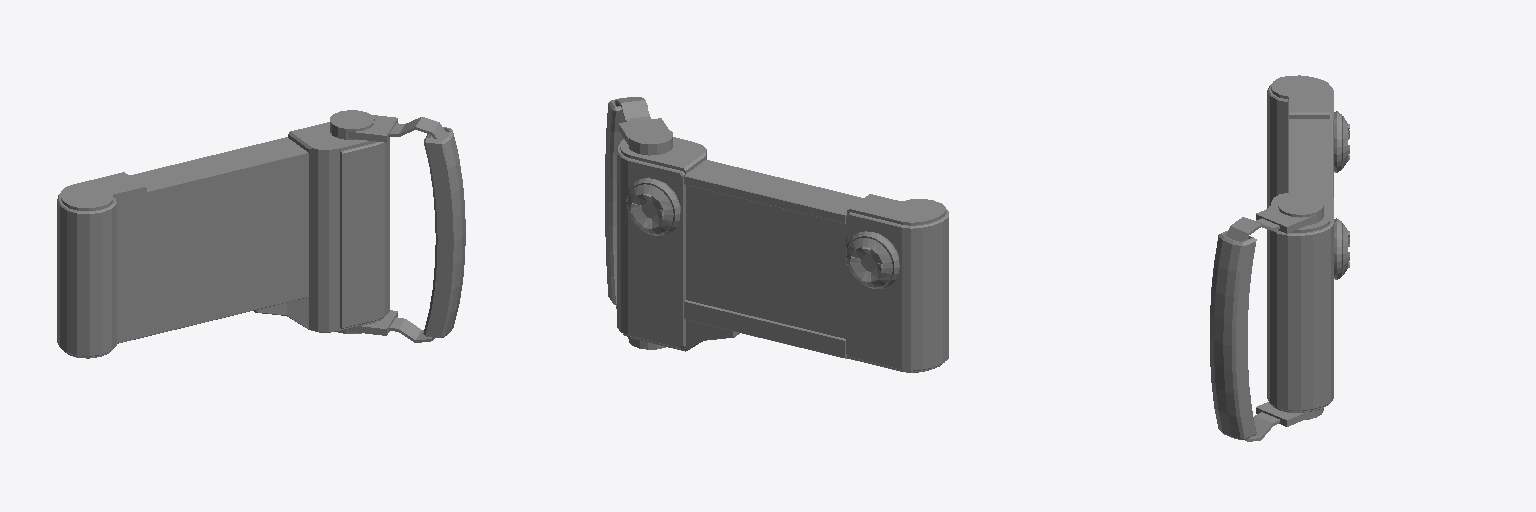
File: RCRemote.obj
3 views of the same model, side by side, from view 1: azimuth 30°, elevation 25°; view 2: azimuth 150°, elevation 25°; view 3: azimuth 270°, elevation 25° (orthographic).
Visible parts, largest first — view 1: SK_WPR_DEP_RCRemote_1P; view 2: SK_WPR_DEP_RCRemote_1P; view 3: SK_WPR_DEP_RCRemote_1P.
Boxes of the visible parts, x1=… form: SK_WPR_DEP_RCRemote_1P: x1=57, y1=110, x2=465, y2=358; SK_WPR_DEP_RCRemote_1P: x1=605, y1=97, x2=948, y2=372; SK_WPR_DEP_RCRemote_1P: x1=1210, y1=75, x2=1349, y2=441.
Size of the model in its own units: 18.38 by 10.25 by 6.05.